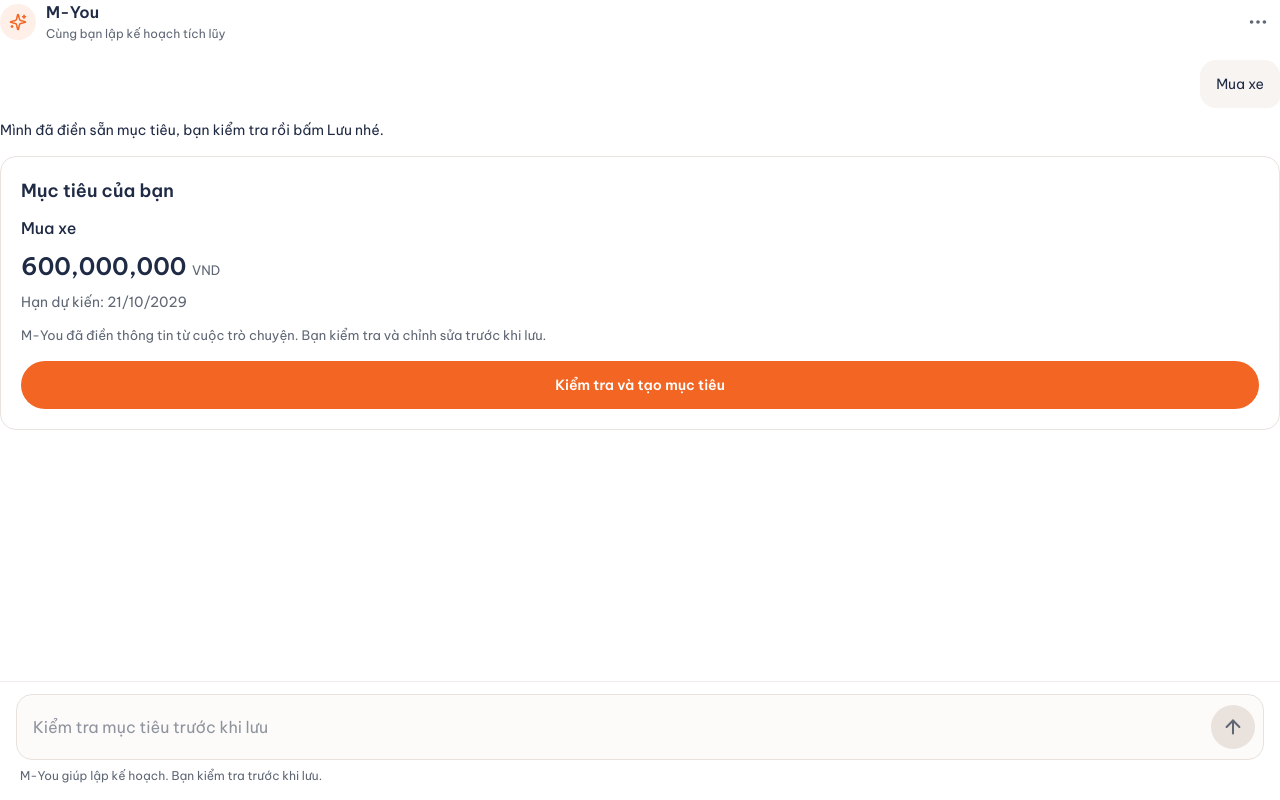
Test: shows a review card before opening the prefilled goal form
Expected: the text "600,000,000" is shown, [21,251,186,281]
Click the button "Kiểm tra và tạo mục tiêu".
click(640, 385)  # box [21,361,1259,409]
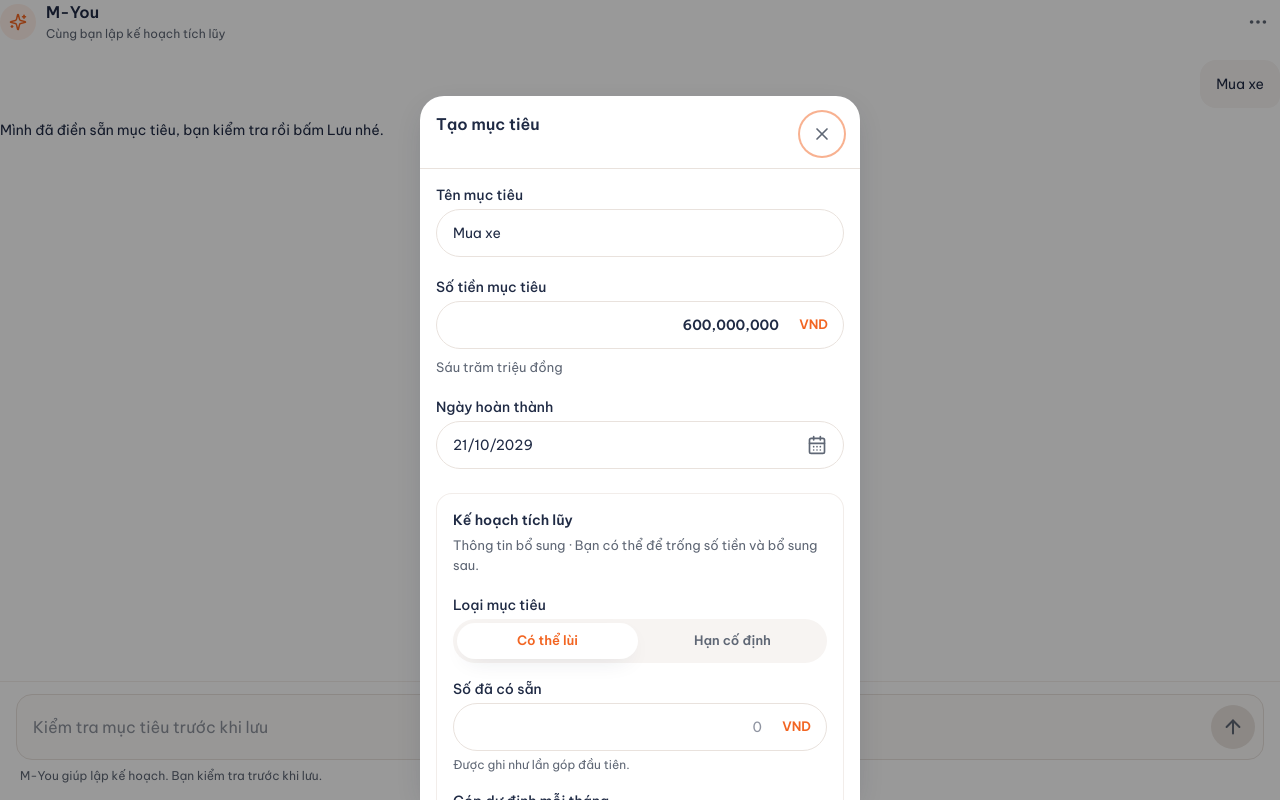
Expected: the dialog "Tạo mục tiêu" is shown, [420,96,860,799]
Expected: the field labelled "Tên mục tiêu" holds "Mua xe", [436,209,844,257]
